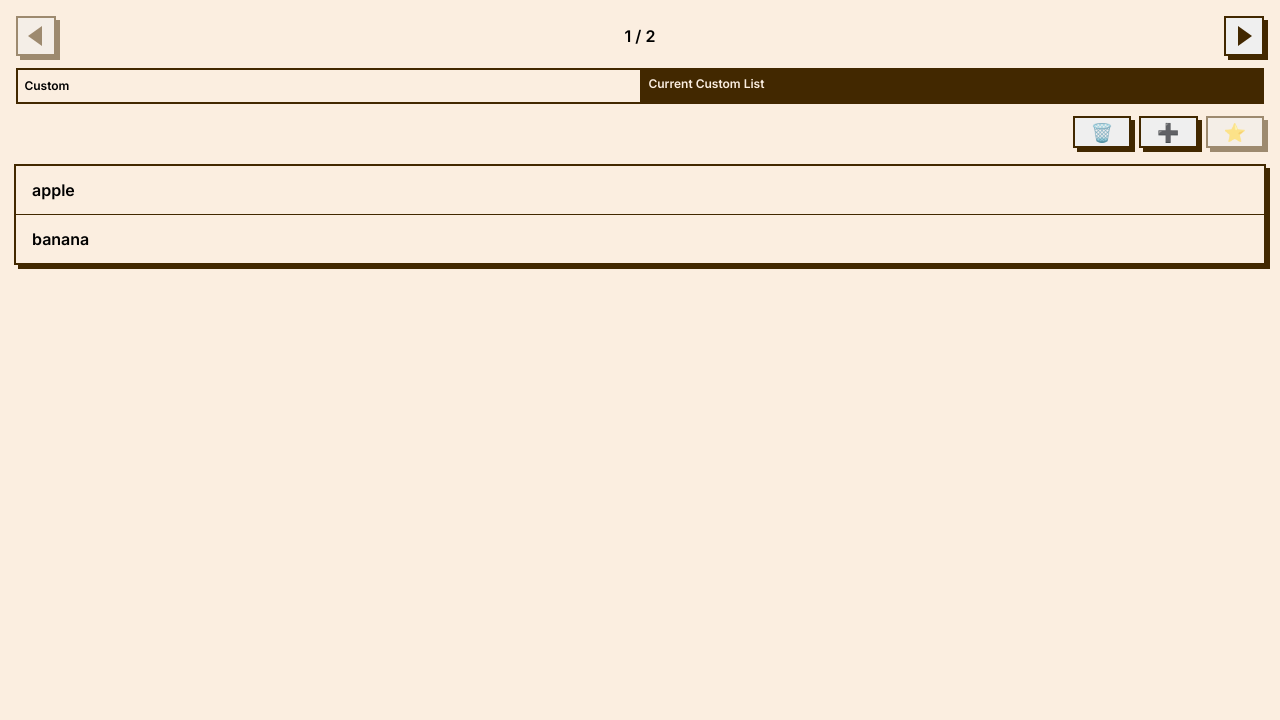
WordListsContent › delete flow › shows word count in delete modal
The image size is (1280, 720).
Click the button "🗑️" at (1102, 132), box 1073,116 -> 1131,148
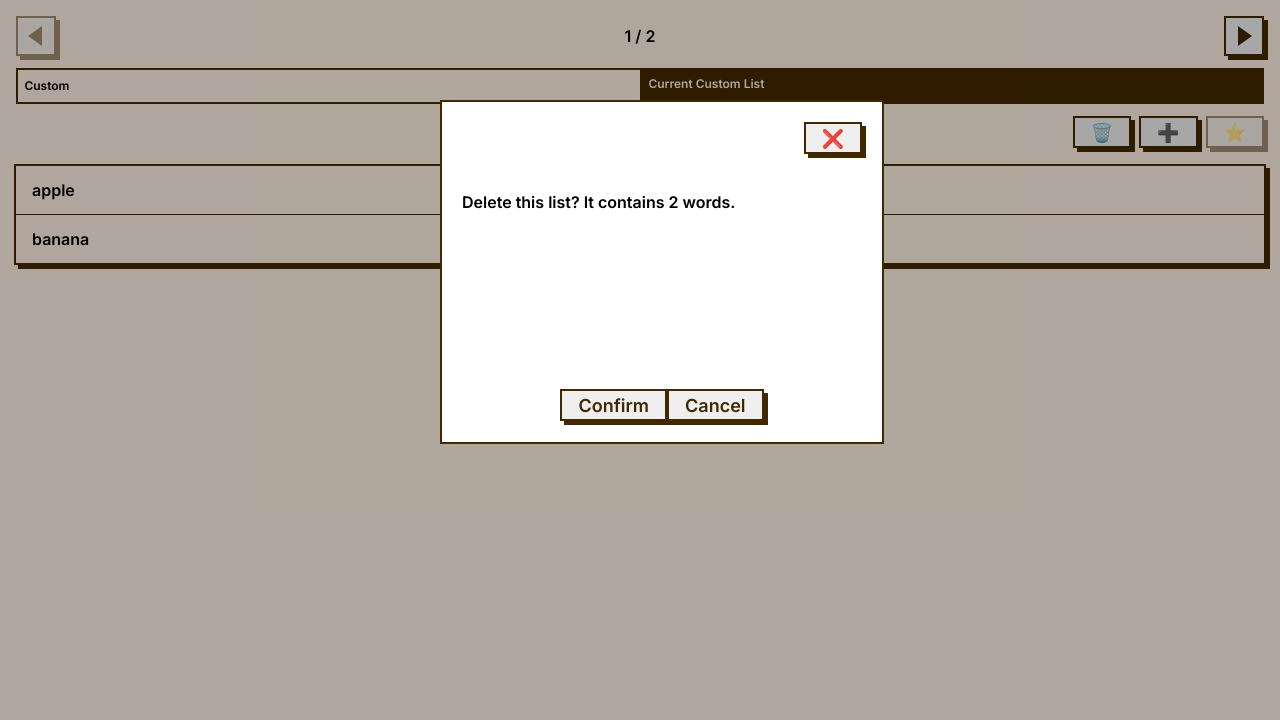
expect the text "Delete this list? It contains 2 words." is shown: met, box 462,192 -> 735,212
